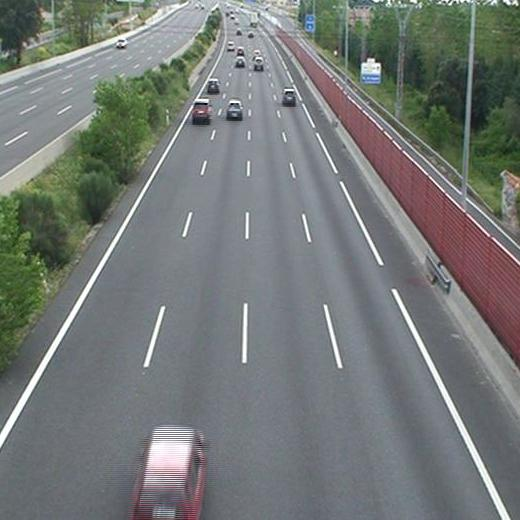car: (134, 428, 205, 520), (192, 100, 211, 119), (226, 100, 243, 116), (282, 89, 296, 103), (208, 79, 220, 91), (253, 57, 263, 68), (235, 56, 245, 66), (253, 50, 263, 58), (226, 42, 234, 51), (236, 47, 244, 54)
